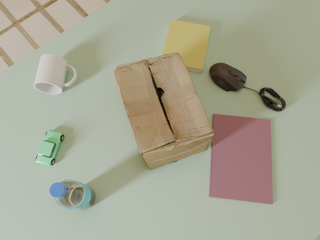book: (209, 114, 273, 204), (162, 19, 211, 73)
bottle: (50, 180, 95, 210)
box: (114, 52, 214, 170)
cup: (34, 54, 77, 94)
mouse: (210, 63, 247, 91)
toy_car: (36, 130, 64, 166)
